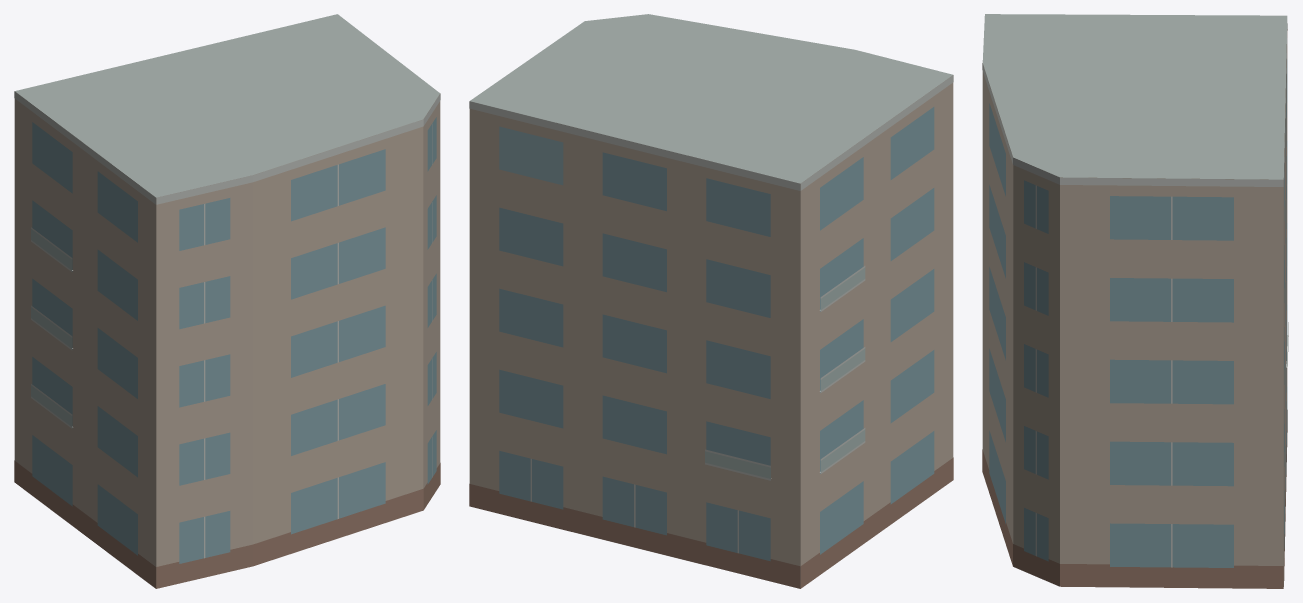
Rendered from survey-upis-32832741.glb.
3 renders of one model, left to right at view 1: azimuth 30°, elevation 25°; view 2: azimuth 150°, elevation 25°; view 3: azimuth 270°, elevation 25°, orthographic. The views are drawn at different scales.
Parts seen in each view (by area): view 1: survey-upis-32832741.tmp; view 2: survey-upis-32832741.tmp; view 3: survey-upis-32832741.tmp.
Part boxes in pixels (left/top/right/bottom): survey-upis-32832741.tmp: left=14, top=14, right=440, bottom=588; survey-upis-32832741.tmp: left=469, top=14, right=953, bottom=588; survey-upis-32832741.tmp: left=982, top=14, right=1288, bottom=588.
Bounding box in the file's own units: 11.55 × 13.3 × 9.01.
